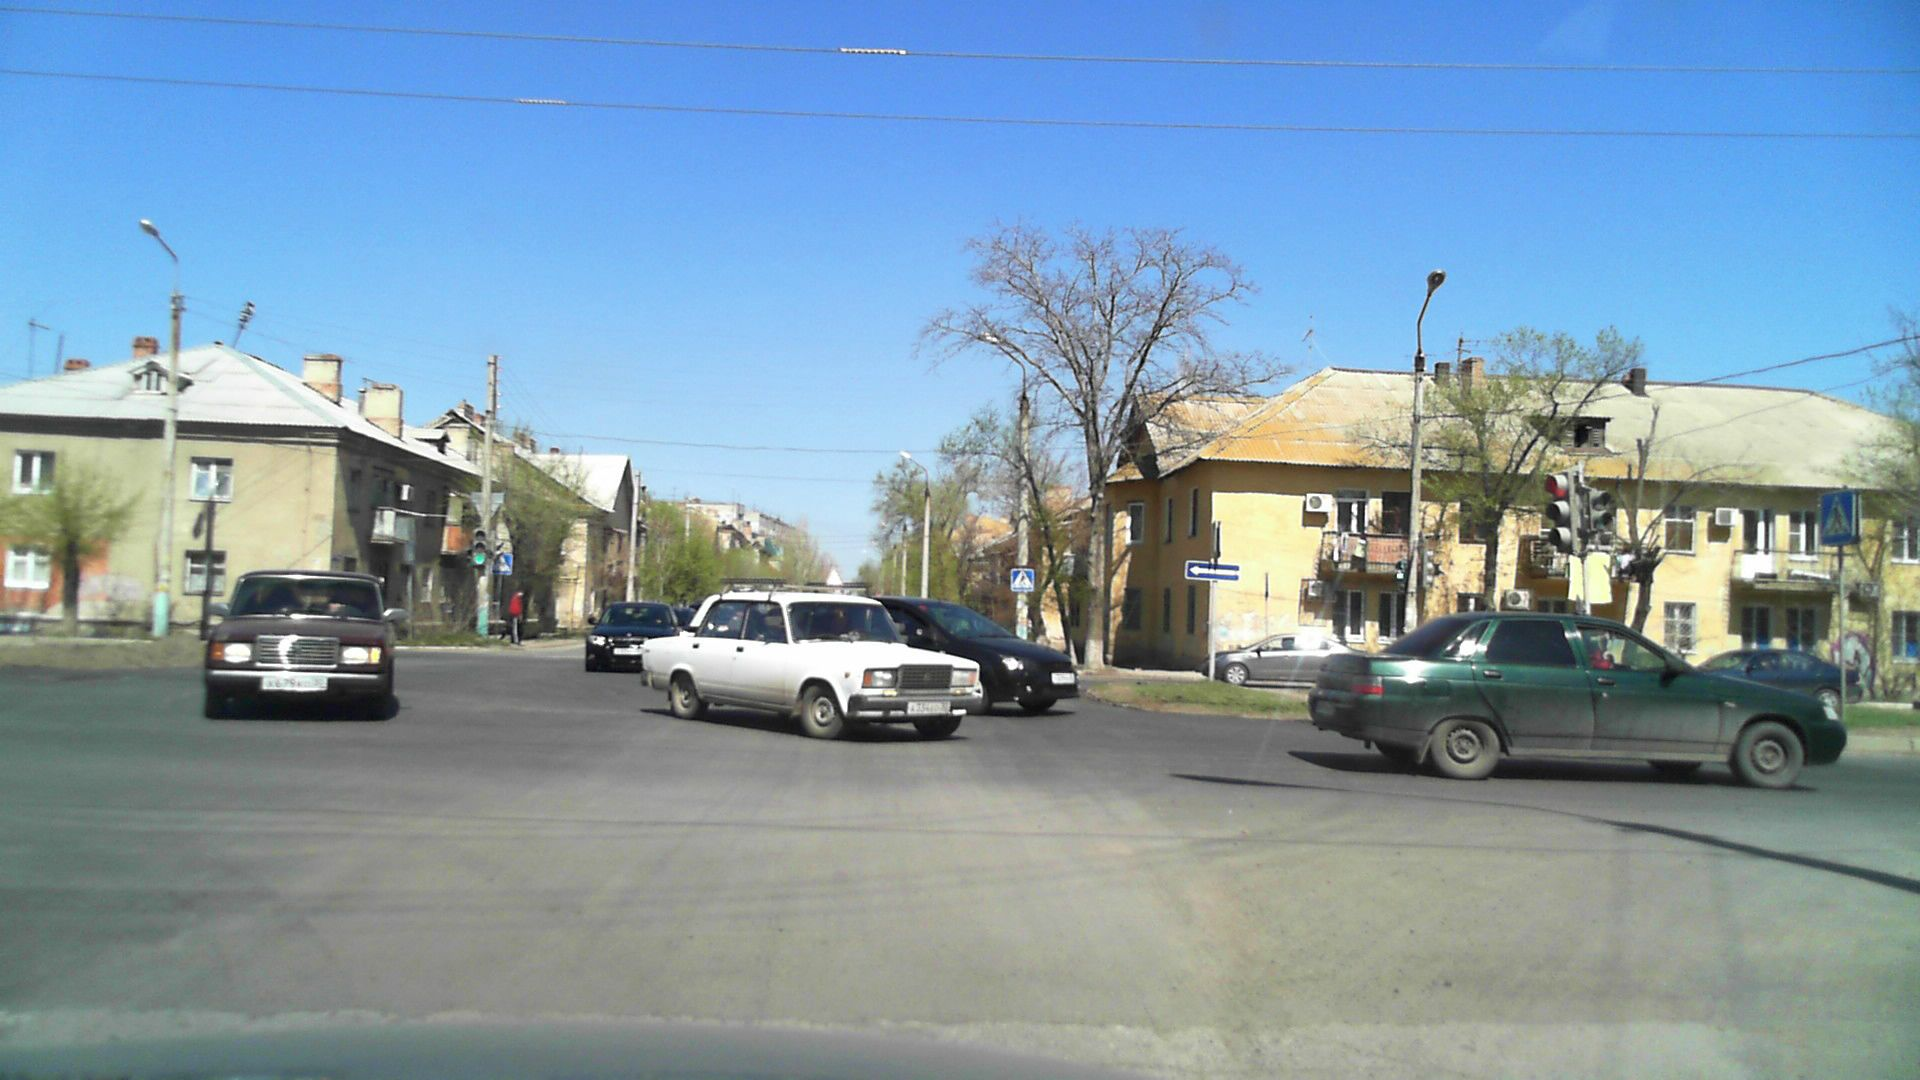One-Way Traffic: (1185, 563, 1240, 580)
